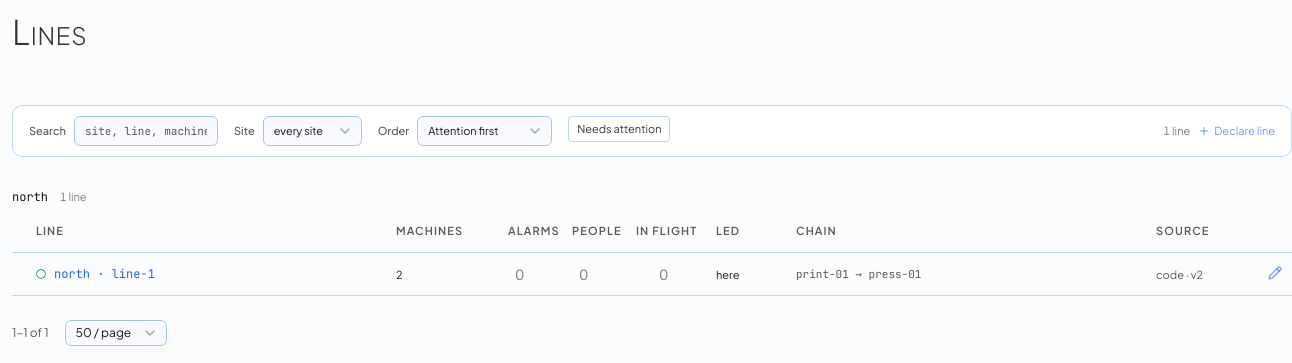
LinesPage › sends the search, site and attention filters to the server and stops grouping
expect the link "north · line-1" is shown: met, box left=54, top=266, right=155, bottom=282
Click the button "Needs attention". click: x=619, y=129
box: left=568, top=116, right=670, bottom=142
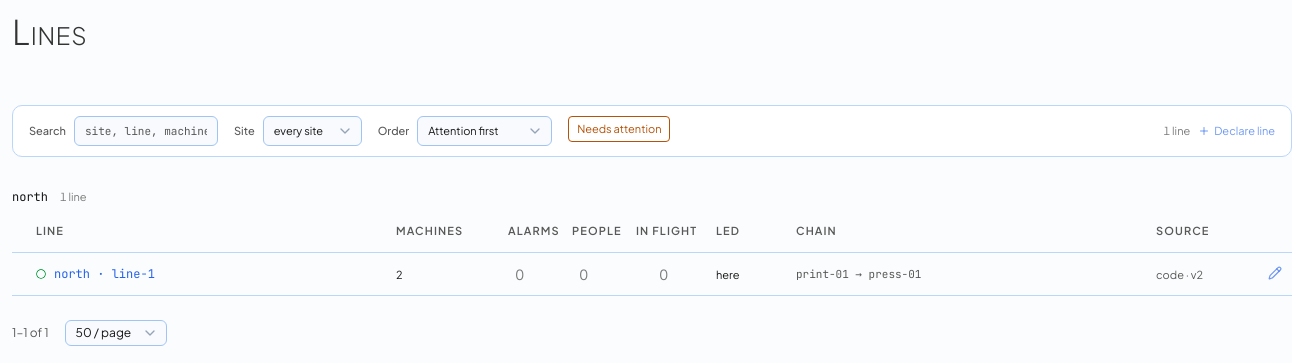
Select "north · 1 line" in the dropdown showing "every site" next to "Site". click: x=312, y=131
box: left=263, top=116, right=362, bottom=146
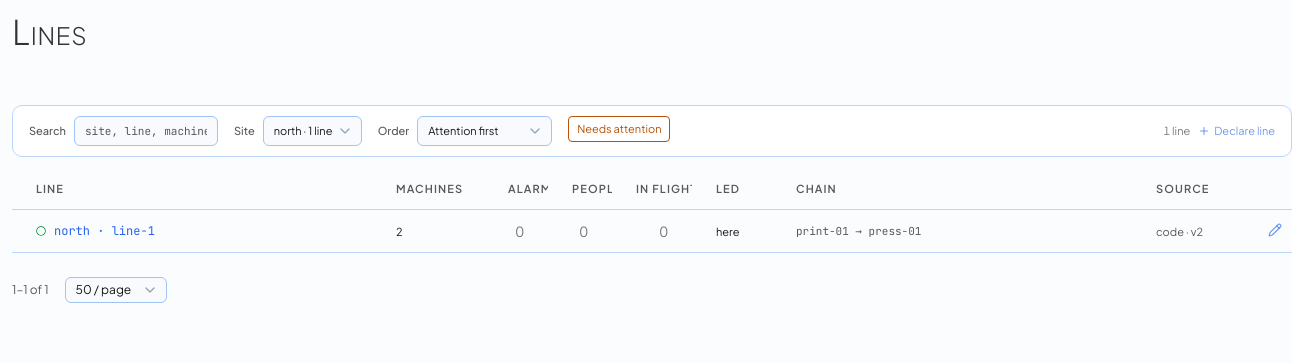
expect the element with test id "site-heading" is gone: met
